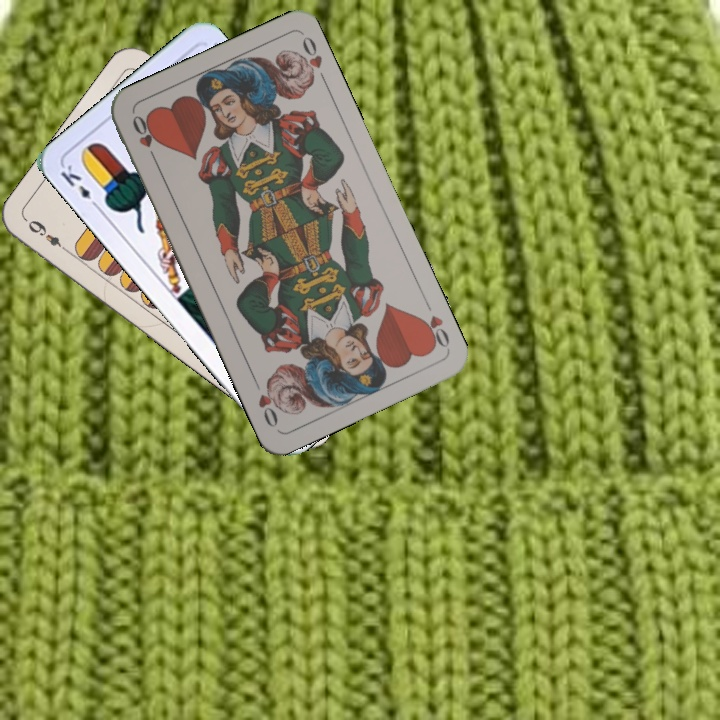E9: (23, 216, 72, 257)
EK: (56, 160, 103, 212)
HO: (128, 111, 161, 166), (415, 311, 453, 352)
